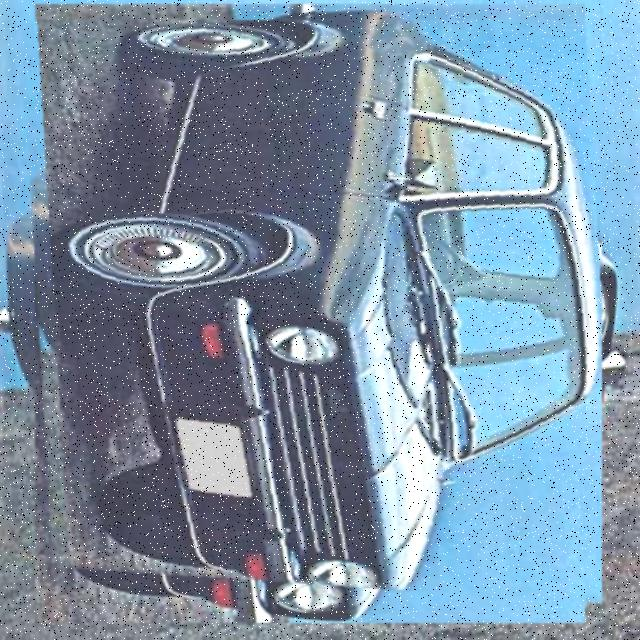car: (19, 21, 603, 607)
